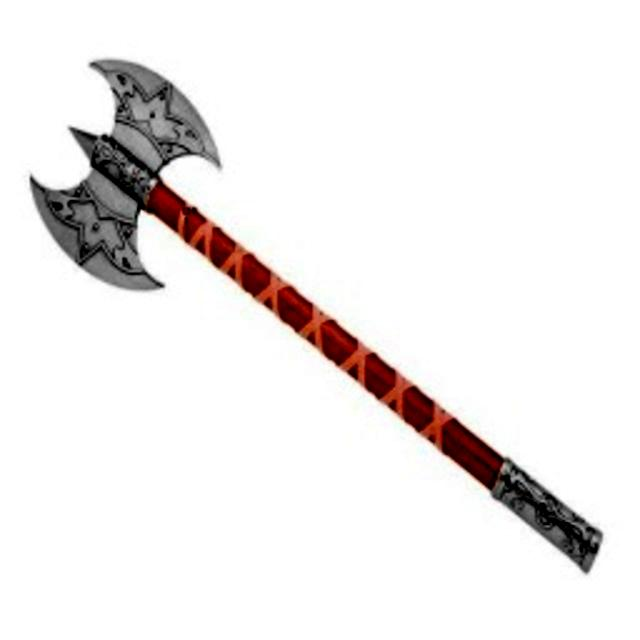ax: (24, 50, 610, 582)
